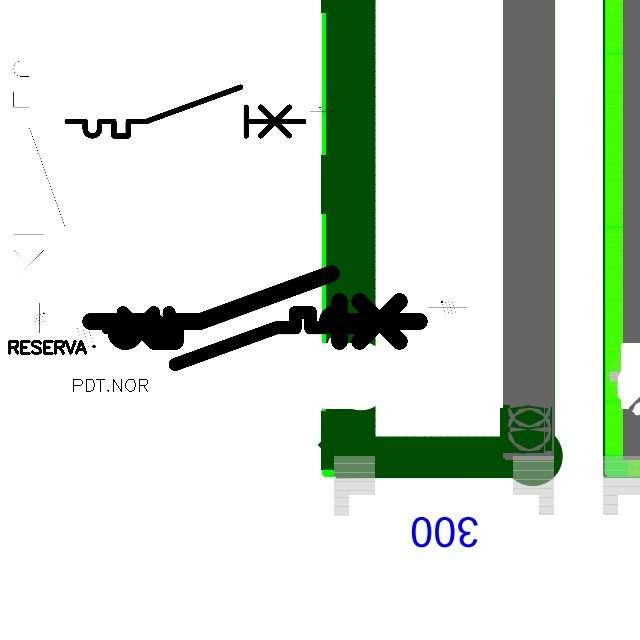interruptor_termomagnetico: (82, 265, 428, 350), (7, 35, 72, 302), (101, 306, 367, 371), (61, 81, 309, 142)
